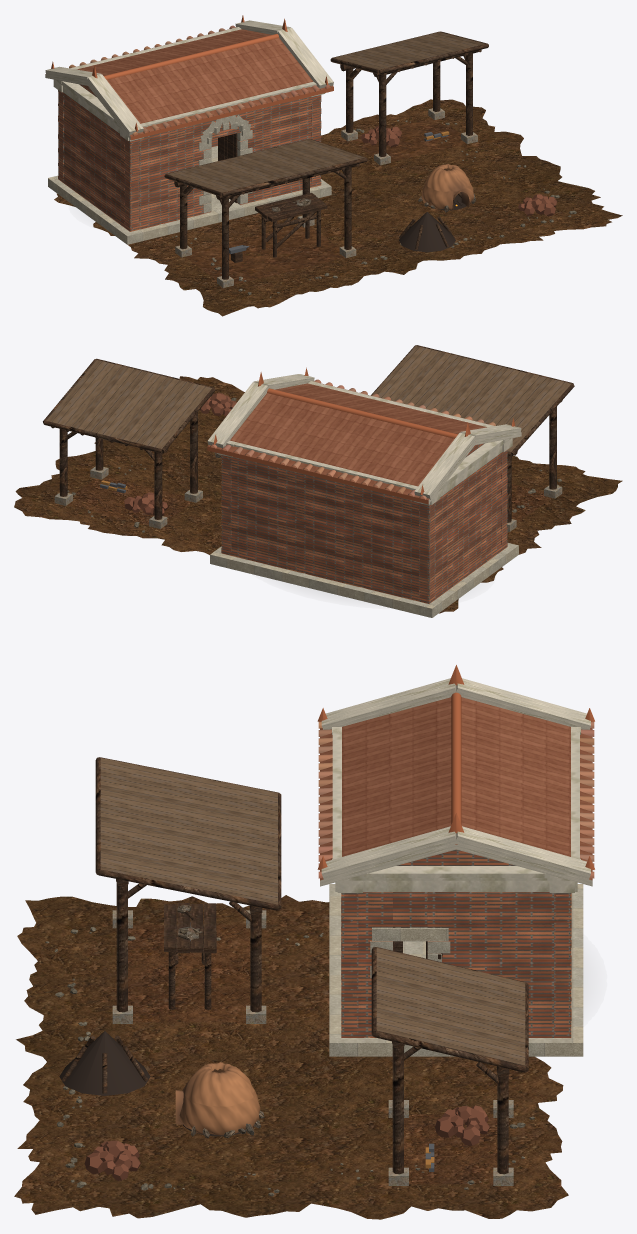
The model's file is smelter.glb.
The picture shows the model from 3 angles, top to bottom: view 1: azimuth 30°, elevation 25°; view 2: azimuth 150°, elevation 25°; view 3: azimuth 270°, elevation 25°; orthographic projection. The views are drawn at different scales.
Visible parts, largest first — view 1: part_1, part_4, part_20, part_6, part_9, part_7, part_19, part_5, part_21, part_16, part_17, part_15 (+3 smaller); view 2: part_4, part_9, part_1, part_20, part_19, part_6, part_5, part_7, part_21, part_15, part_22, part_8; view 3: part_1, part_9, part_20, part_4, part_19, part_6, part_7, part_5, part_16, part_17, part_15, part_22 (+3 smaller).
Part boxes in pixels (left/top/right/bottom): part_1: left=54, top=99, right=622, bottom=316; part_4: left=58, top=84, right=321, bottom=231; part_20: left=45, top=29, right=333, bottom=136; part_6: left=164, top=31, right=488, bottom=279; part_9: left=167, top=32, right=484, bottom=192; part_7: left=185, top=117, right=466, bottom=284; part_19: left=45, top=20, right=333, bottom=141; part_5: left=48, top=115, right=331, bottom=244; part_21: left=51, top=15, right=333, bottom=140; part_16: left=421, top=164, right=473, bottom=210; part_17: left=399, top=194, right=470, bottom=252; part_15: left=361, top=125, right=556, bottom=216; part_4: left=221, top=443, right=507, bottom=603; part_9: left=46, top=346, right=571, bottom=451; part_1: left=14, top=376, right=622, bottom=613; part_20: left=207, top=383, right=487, bottom=500; part_19: left=207, top=374, right=521, bottom=505; part_6: left=43, top=345, right=574, bottom=522; part_5: left=210, top=543, right=518, bottom=617; part_7: left=67, top=476, right=551, bottom=525; part_21: left=207, top=367, right=515, bottom=504; part_15: left=124, top=392, right=236, bottom=515; part_22: left=210, top=379, right=495, bottom=499; part_8: left=54, top=466, right=562, bottom=531; part_1: left=14, top=895, right=568, bottom=1219; part_9: left=100, top=758, right=525, bottom=1065; part_20: left=320, top=697, right=592, bottom=880; part_4: left=341, top=849, right=571, bottom=1037; part_19: left=320, top=678, right=592, bottom=892; part_6: left=61, top=757, right=528, bottom=1174; part_7: left=128, top=924, right=497, bottom=1184; part_5: left=329, top=884, right=583, bottom=1056; part_16: left=175, top=1062, right=260, bottom=1135; part_17: left=59, top=1031, right=253, bottom=1136; part_15: left=84, top=1105, right=489, bottom=1180; part_22: left=318, top=721, right=594, bottom=878.
Size of the model in its own units: 9.44 by 3.19 by 7.24.
Materials: 23 (14 with a texture image).
